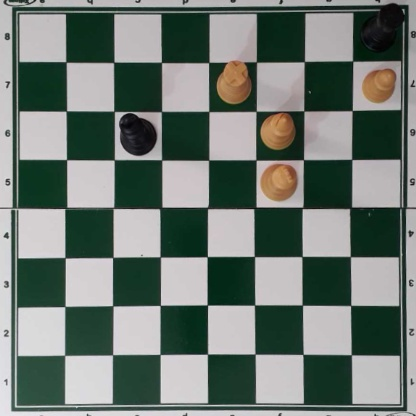black-king: (116, 112, 157, 156)
black-rook: (358, 1, 405, 53)
white-bishop: (261, 111, 294, 150)
white-king: (258, 162, 298, 201)
white-pawn: (361, 66, 397, 103)
white-rook: (216, 61, 253, 103)
